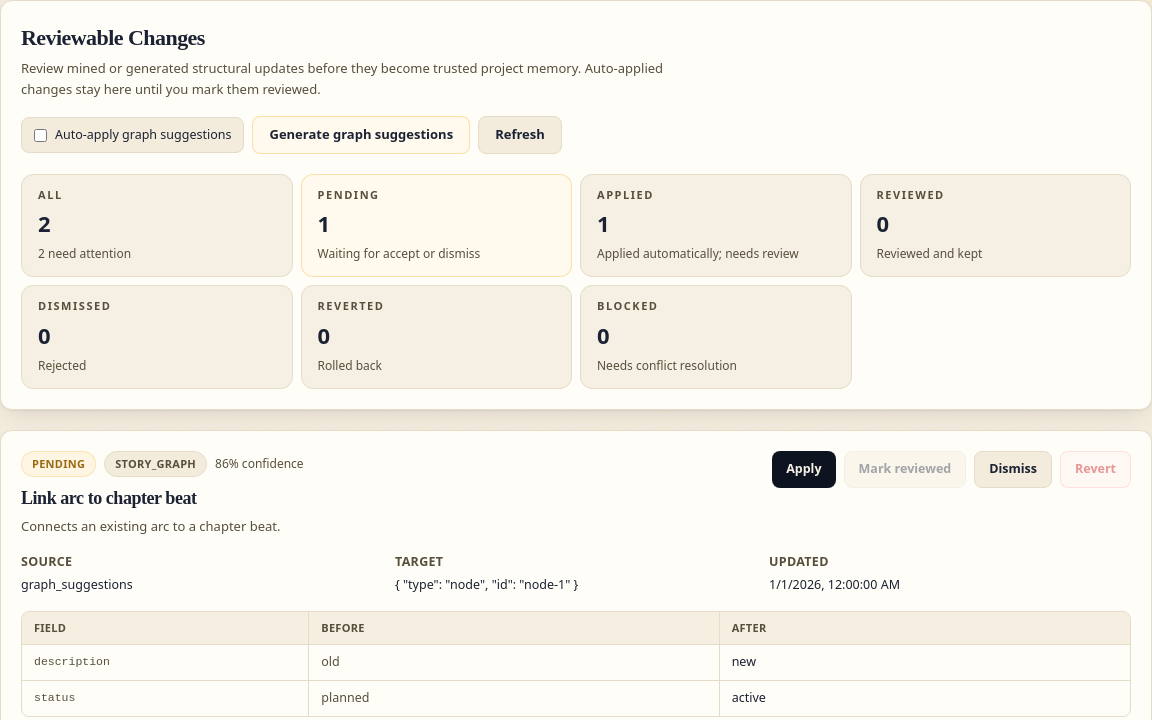
it: renders pending changes with structured before and after fields and applies a change
Expected: the heading "Link arc to chapter beat" is shown, [21,488,196,508]
Expected: the text "description" is shown, [22,645,309,680]
Click the button "Apply": (804, 469) [772,451,836,488]
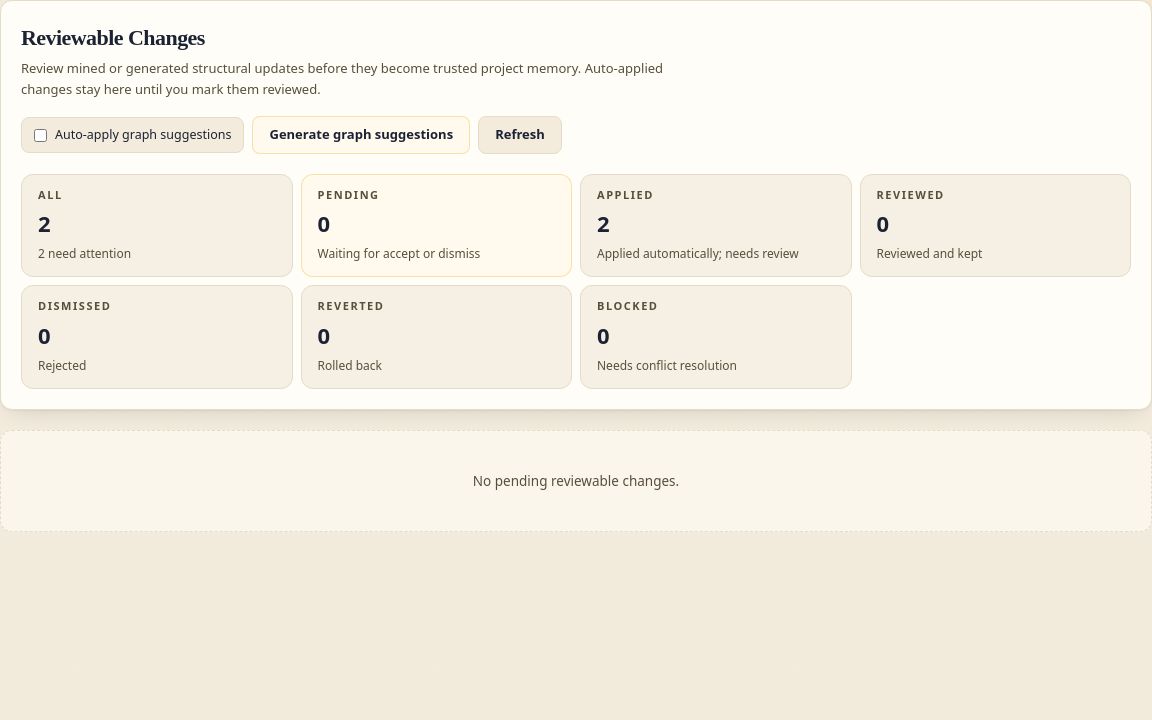
Now the text "No pending reviewable changes." is shown, box [0,430,1151,532]
